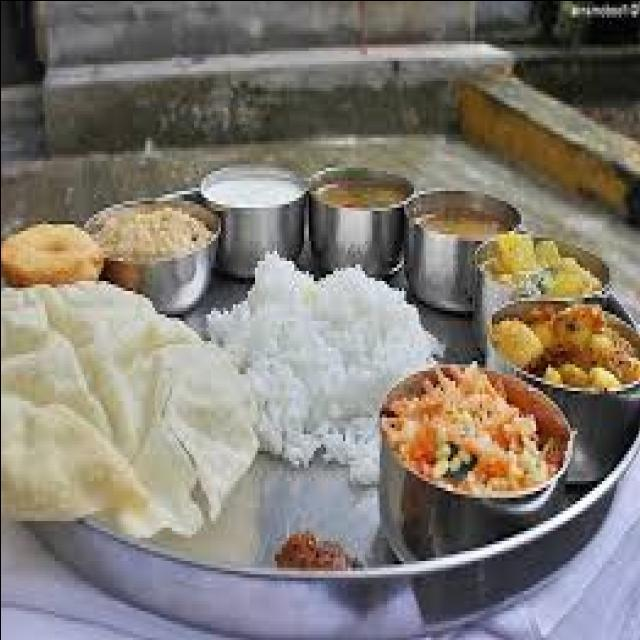dal: (480, 223, 605, 306), (97, 191, 211, 279), (2, 212, 104, 288)
papad: (0, 342, 174, 534), (153, 336, 263, 496)
raita: (340, 411, 386, 491)
rice: (250, 256, 400, 430)
roti: (380, 357, 566, 515)
veg-fry: (497, 286, 637, 403), (4, 208, 104, 289)
